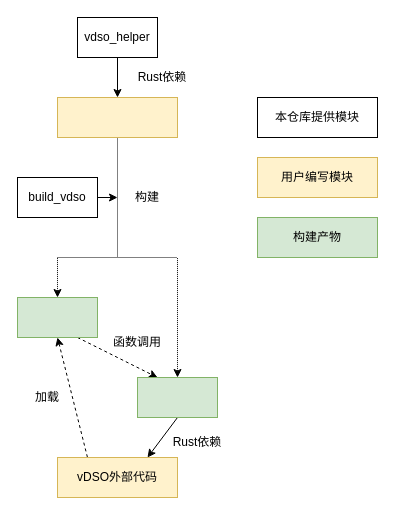
The diagram is 395 pixels wide and 515 high, and some of its shapes have lost their labels. The centre of each missing label's shape, as x and y in pixels:
"api库" goes at (x=177, y=397).
"so文件" goes at (x=57, y=317).
"（vDSO内部） 功能代码" goes at (x=117, y=117).
